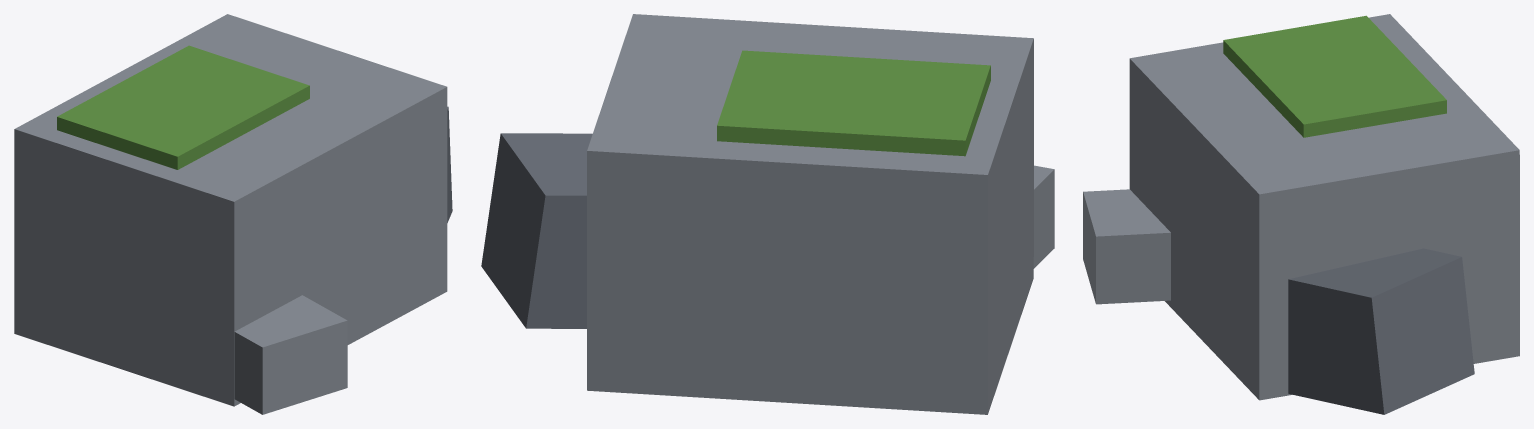
Rendered from C02_rock_medium.obj.
3 views of the same model, side by side, from view 1: azimuth 30°, elevation 25°; view 2: azimuth 150°, elevation 25°; view 3: azimuth 270°, elevation 25° (orthographic). The views are drawn at different scales.
Parts seen in each view (by area): view 1: C02_rock_medium; view 2: C02_rock_medium; view 3: C02_rock_medium.
Boxes of the visible parts, box(x1,y1,x2,y2) form: C02_rock_medium: box(14, 14, 452, 414); C02_rock_medium: box(481, 14, 1054, 414); C02_rock_medium: box(1083, 14, 1519, 414).
Bounding box in the file's own units: 1.89 × 0.9053 × 1.63.
